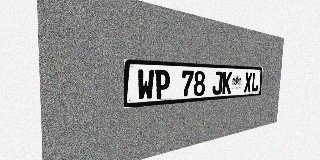7: (180, 70, 194, 97)
8: (193, 71, 206, 96)
J: (212, 71, 223, 95)
K: (222, 72, 232, 94)
L: (251, 72, 259, 92)
P: (154, 70, 170, 99)
W: (137, 69, 154, 101)
X: (244, 72, 252, 92)
